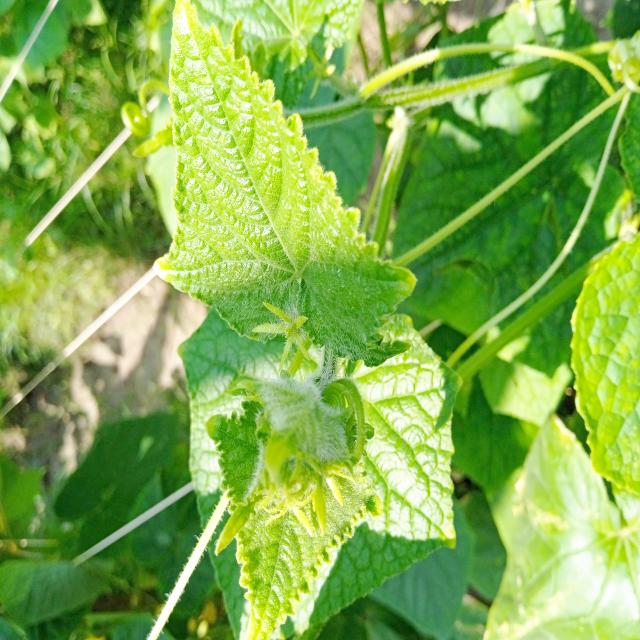Fresh-Leaf: (149, 1, 417, 369)
